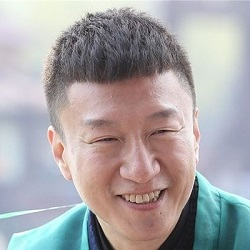unmask: (57, 66, 198, 241)
